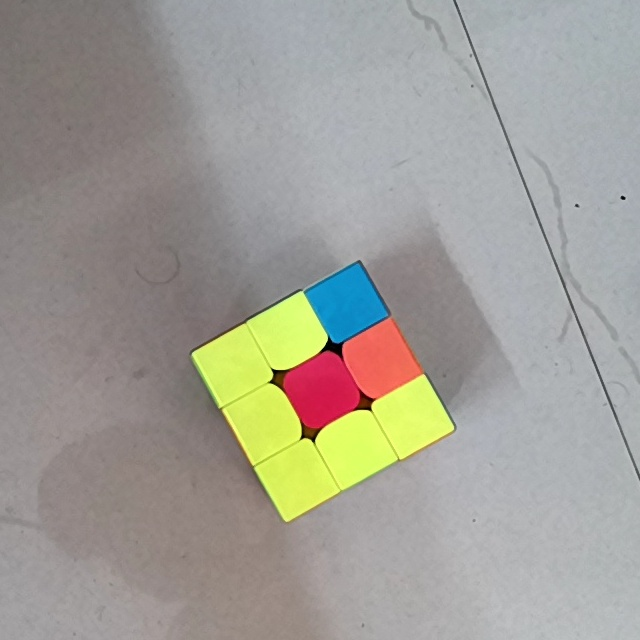tile: (332, 424, 376, 469), (299, 370, 345, 413), (359, 336, 402, 381), (390, 395, 435, 438), (240, 400, 286, 442), (323, 284, 369, 324), (212, 343, 254, 386), (276, 456, 319, 498), (269, 312, 311, 352)
